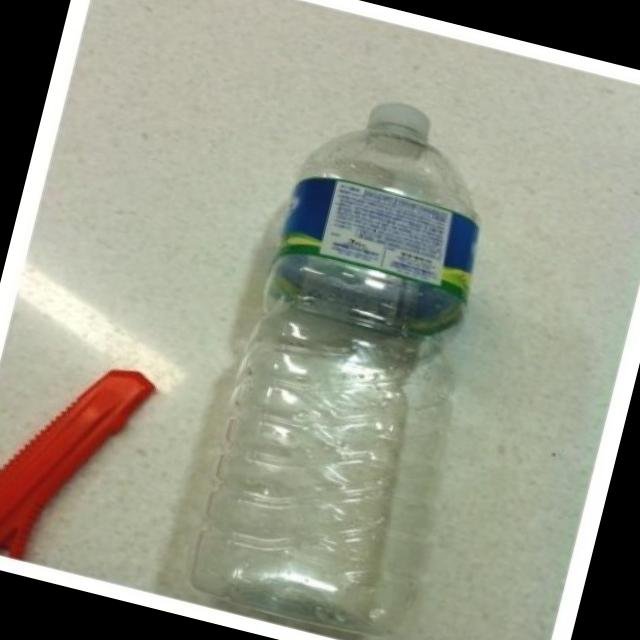plastic_bottle: (181, 80, 518, 640)
